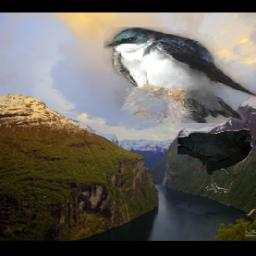Crow: (179, 128, 254, 193)
Swallow: (103, 27, 256, 123)
